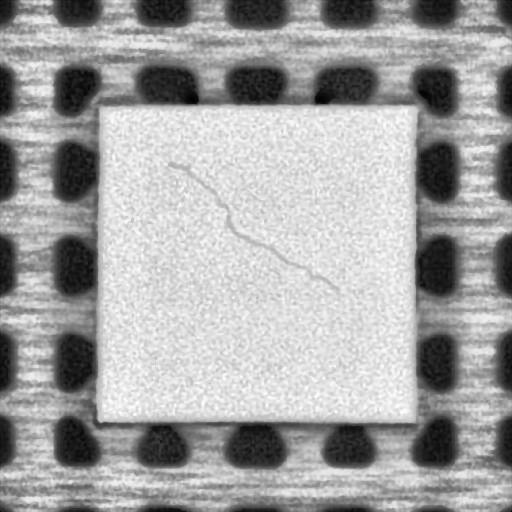DIE_CRACK: (169, 160, 339, 294)
